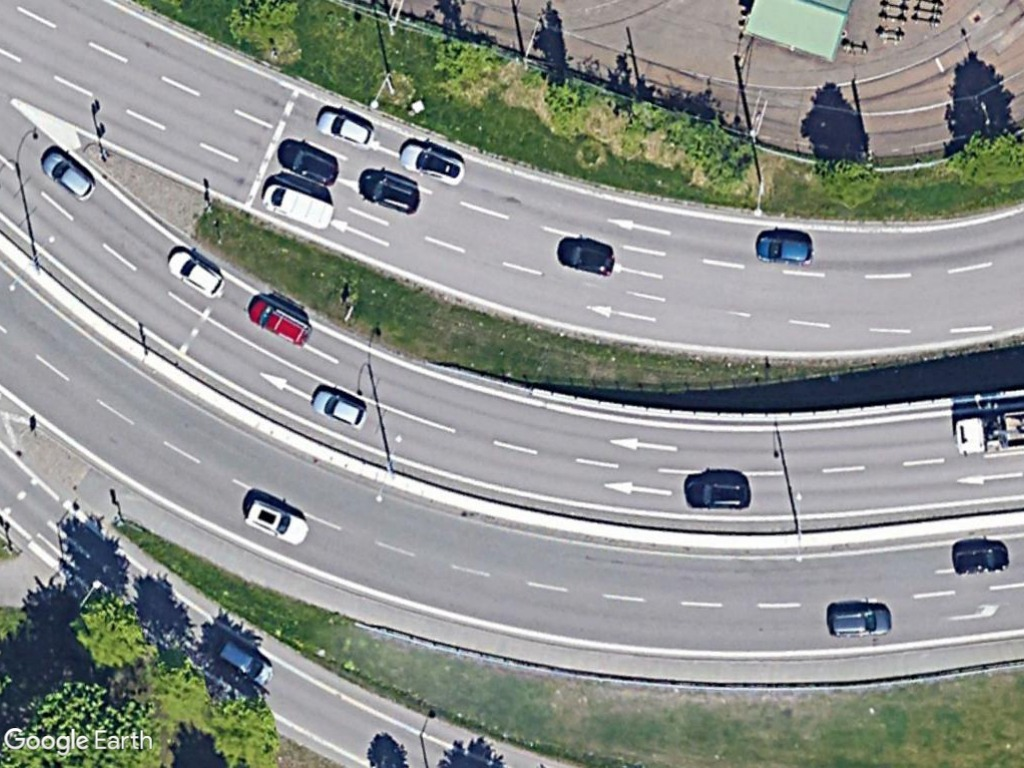car: (242, 292, 320, 355), (393, 135, 474, 191), (241, 488, 313, 549), (36, 144, 103, 207), (161, 245, 228, 306), (354, 166, 428, 217), (212, 636, 278, 693), (312, 104, 384, 154), (821, 600, 901, 643), (279, 138, 346, 189), (306, 384, 373, 434), (748, 227, 820, 271), (552, 234, 620, 280), (680, 473, 758, 512), (948, 539, 1012, 583)
van: (257, 177, 340, 233)
